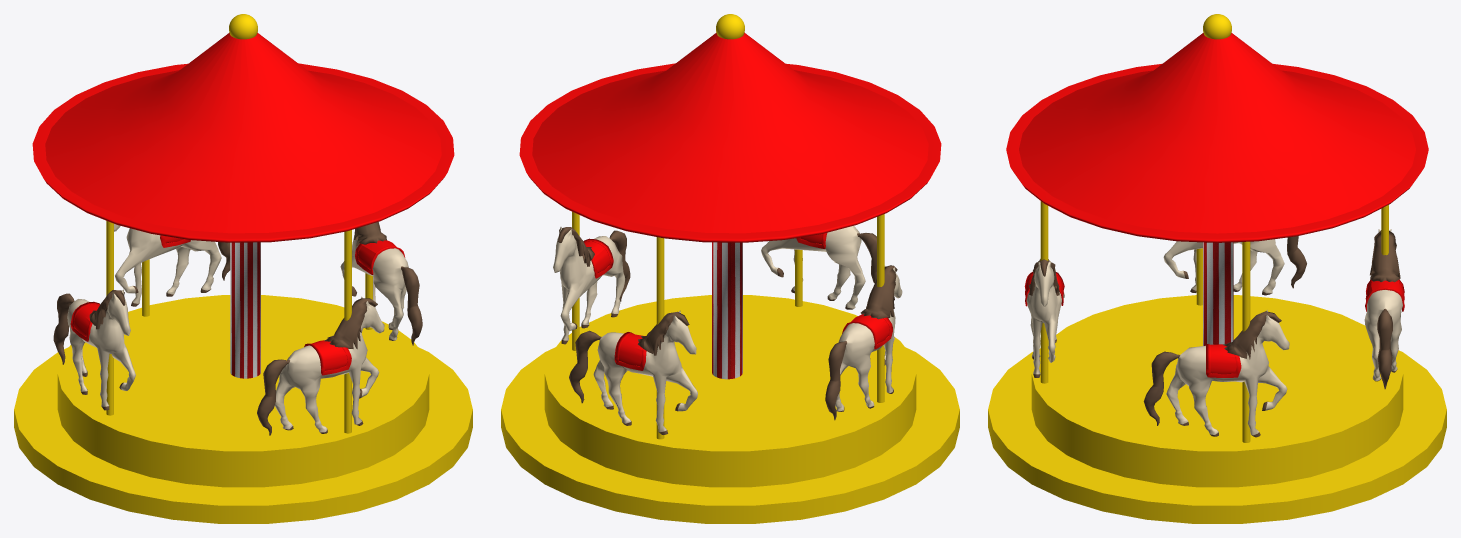
The model's file is atlıkarınca.fbx.
The picture shows the model from 3 angles, left to right: view 1: azimuth 30°, elevation 25°; view 2: azimuth 150°, elevation 25°; view 3: azimuth 270°, elevation 25°; orthographic projection.
Visible parts, largest first — view 1: Cylinder, Cylinder.003; view 2: Cylinder, Cylinder.003; view 3: Cylinder, Cylinder.003.
Boxes of the visible parts, x1=… form: Cylinder: x1=14, y1=14, x2=472, y2=523; Cylinder.003: x1=53, y1=221, x2=422, y2=435; Cylinder: x1=501, y1=14, x2=959, y2=523; Cylinder.003: x1=553, y1=211, x2=902, y2=439; Cylinder: x1=988, y1=14, x2=1446, y2=523; Cylinder.003: x1=1024, y1=201, x2=1404, y2=442.
Bounding box in the file's own units: 2030 × 2023 × 2041.
